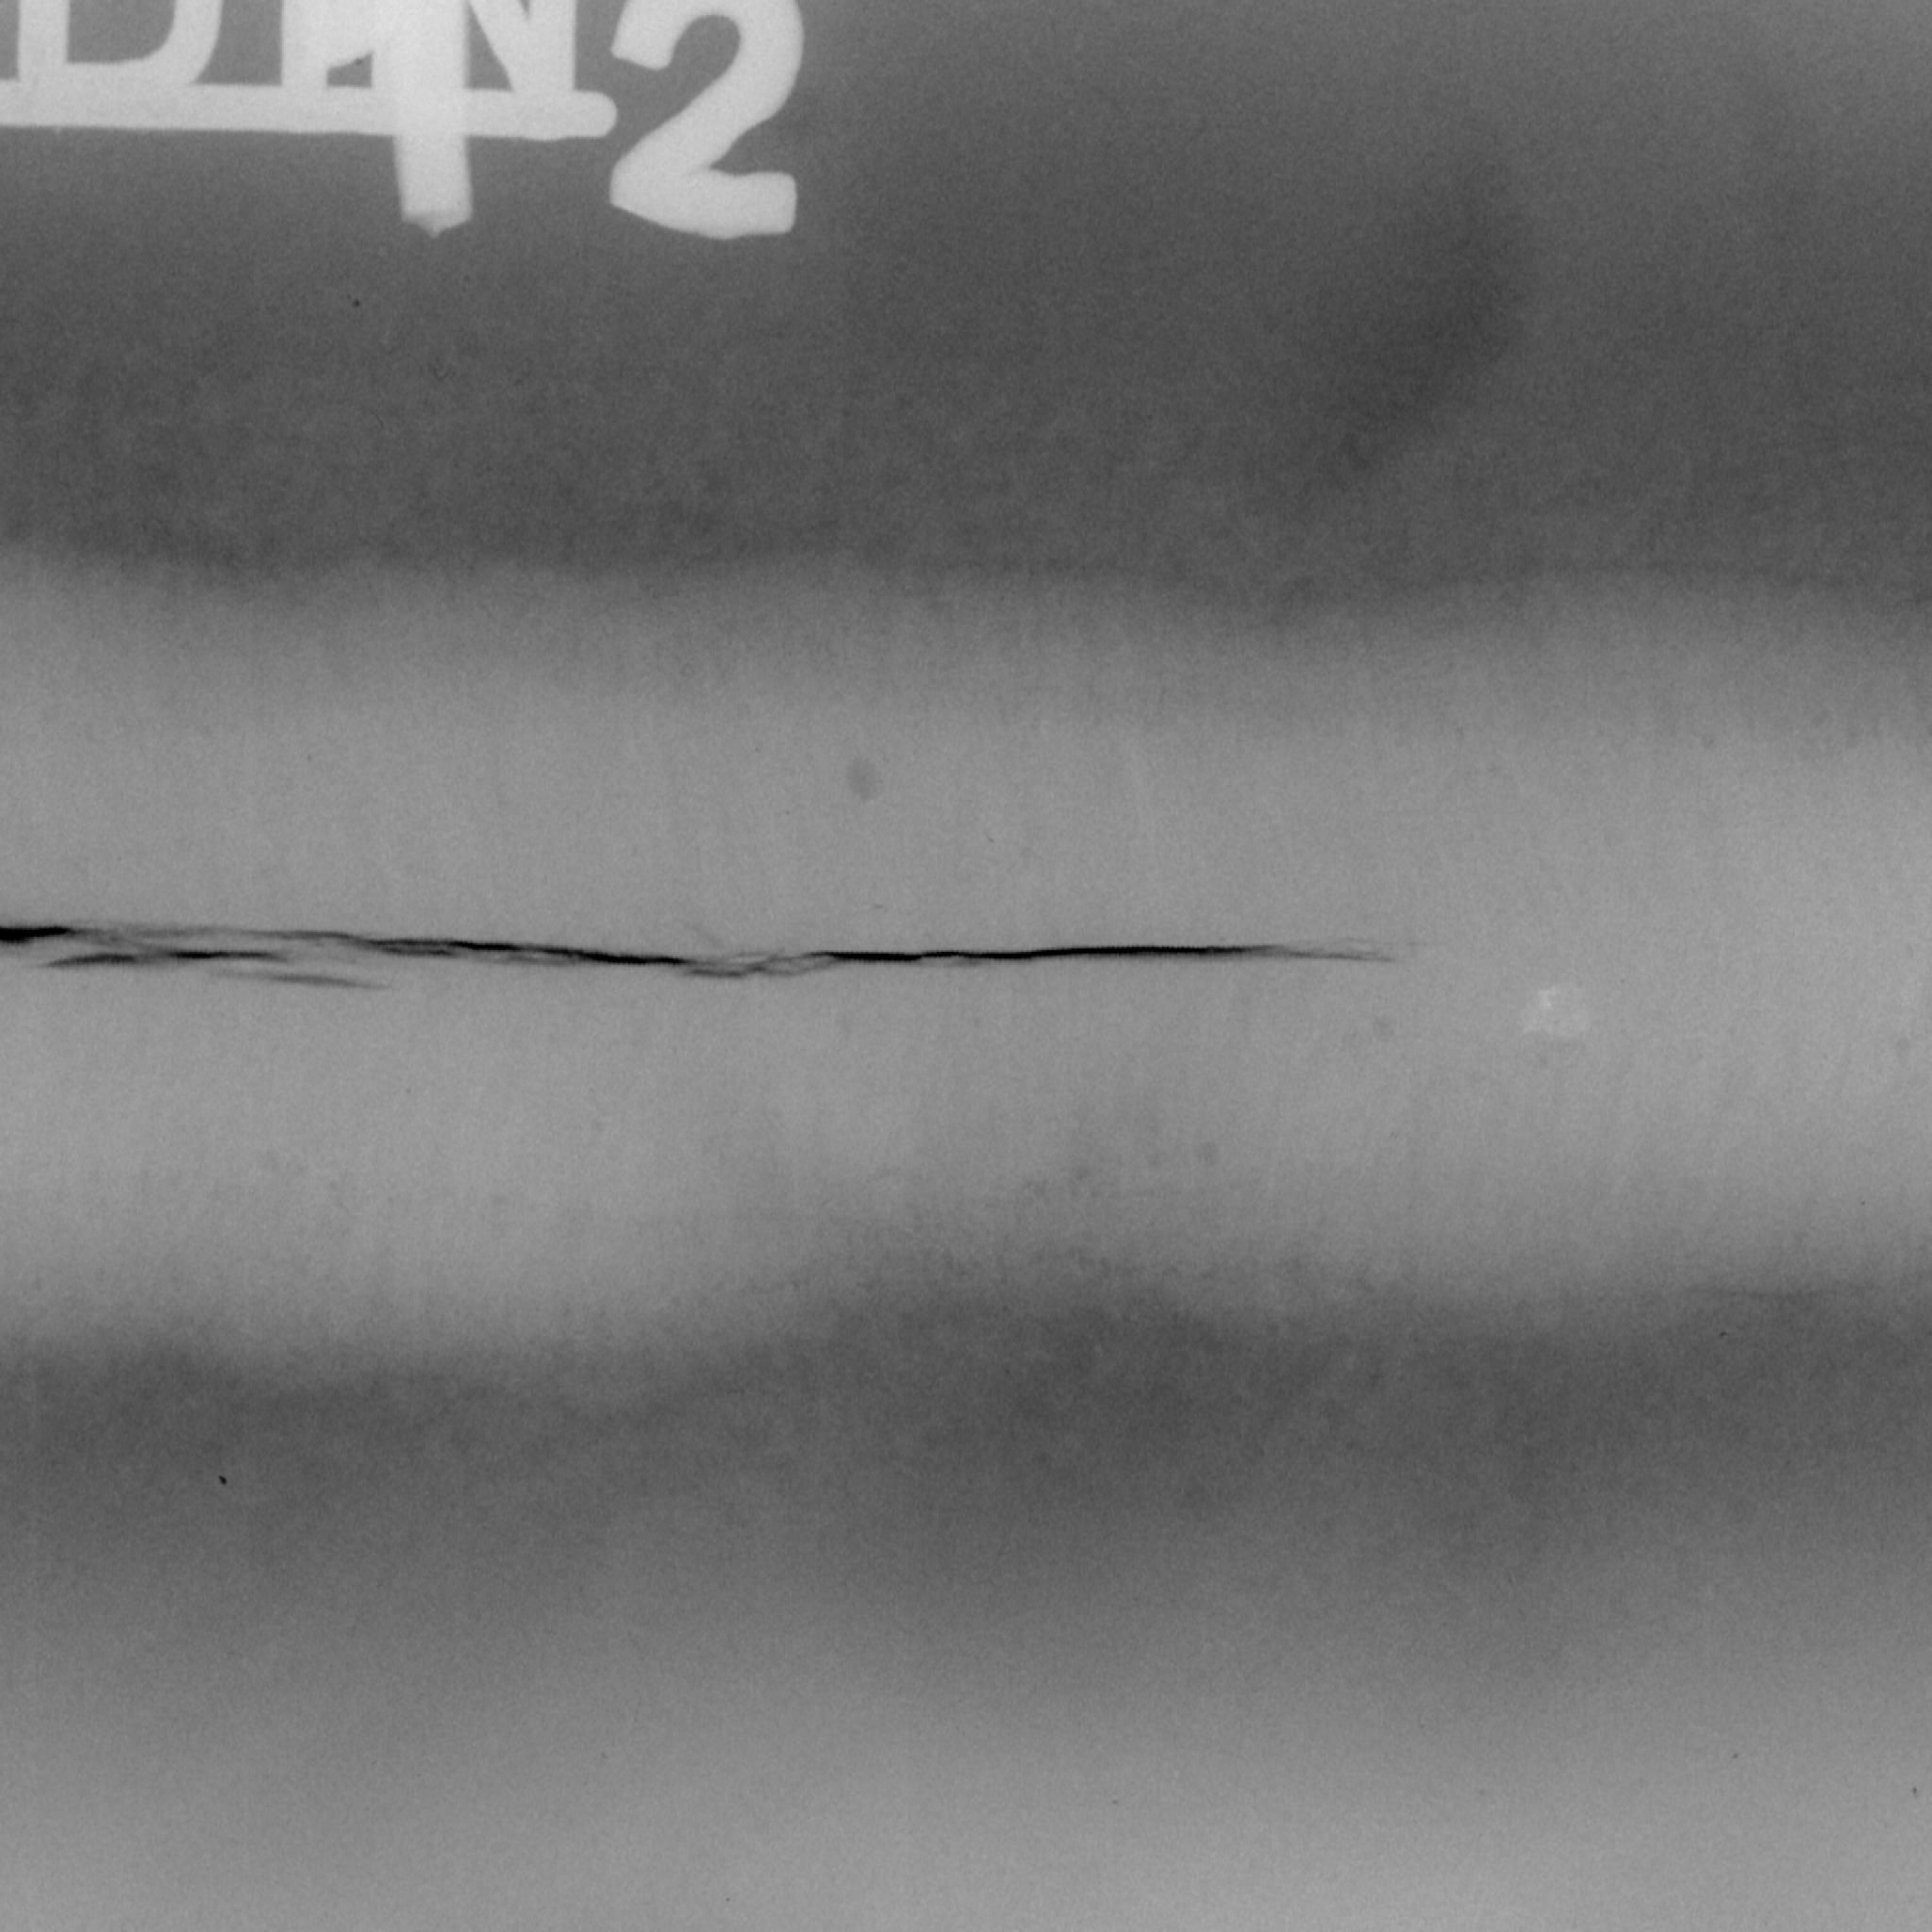TR: (0, 860, 1482, 1064)
